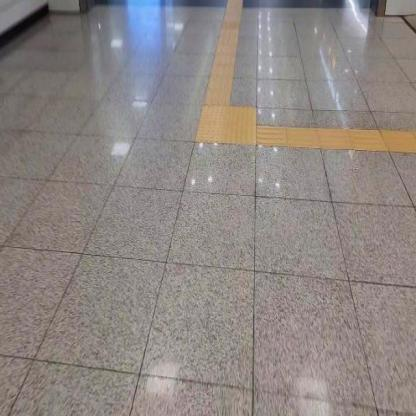podotacti: (183, 80, 272, 176), (257, 121, 415, 155), (201, 0, 245, 102)
